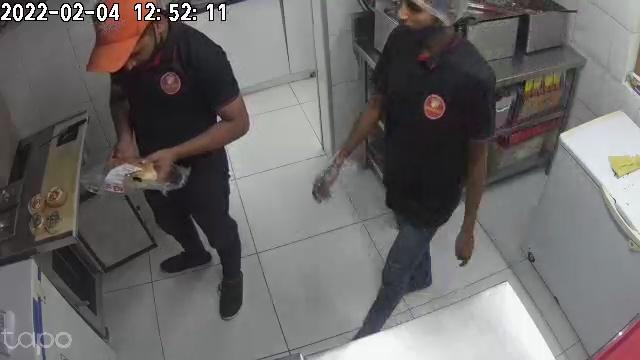no_gloves: (454, 217, 477, 265)
